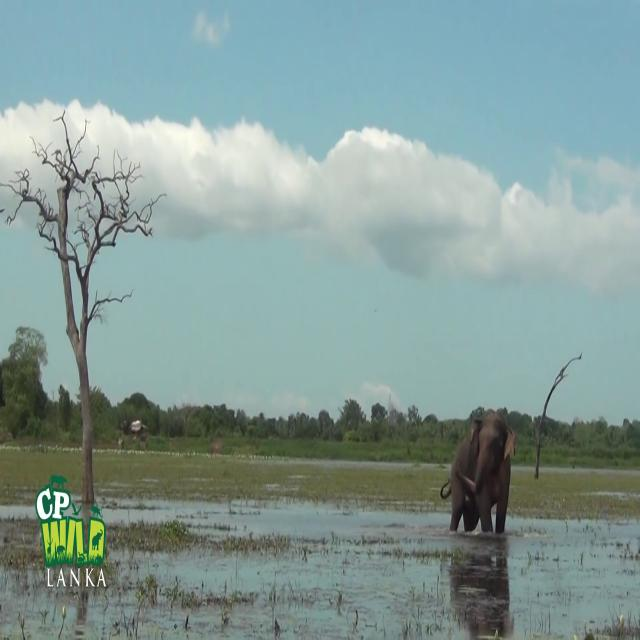Elephant: (440, 409, 516, 534)
